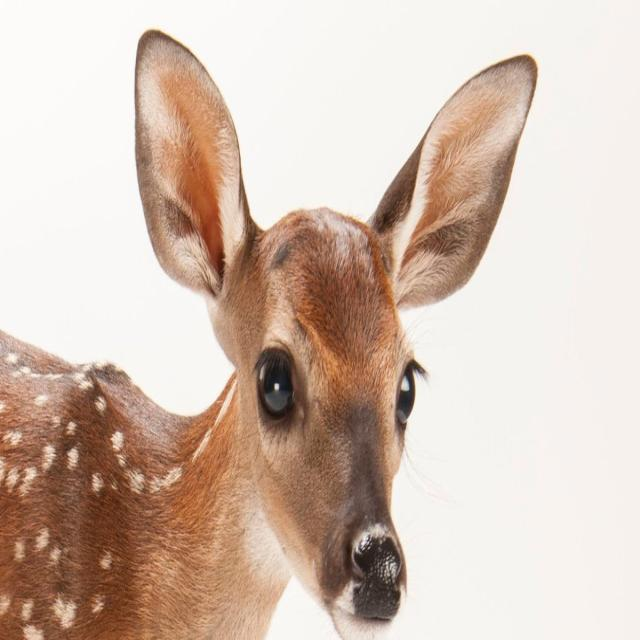deer: (0, 30, 537, 639)
